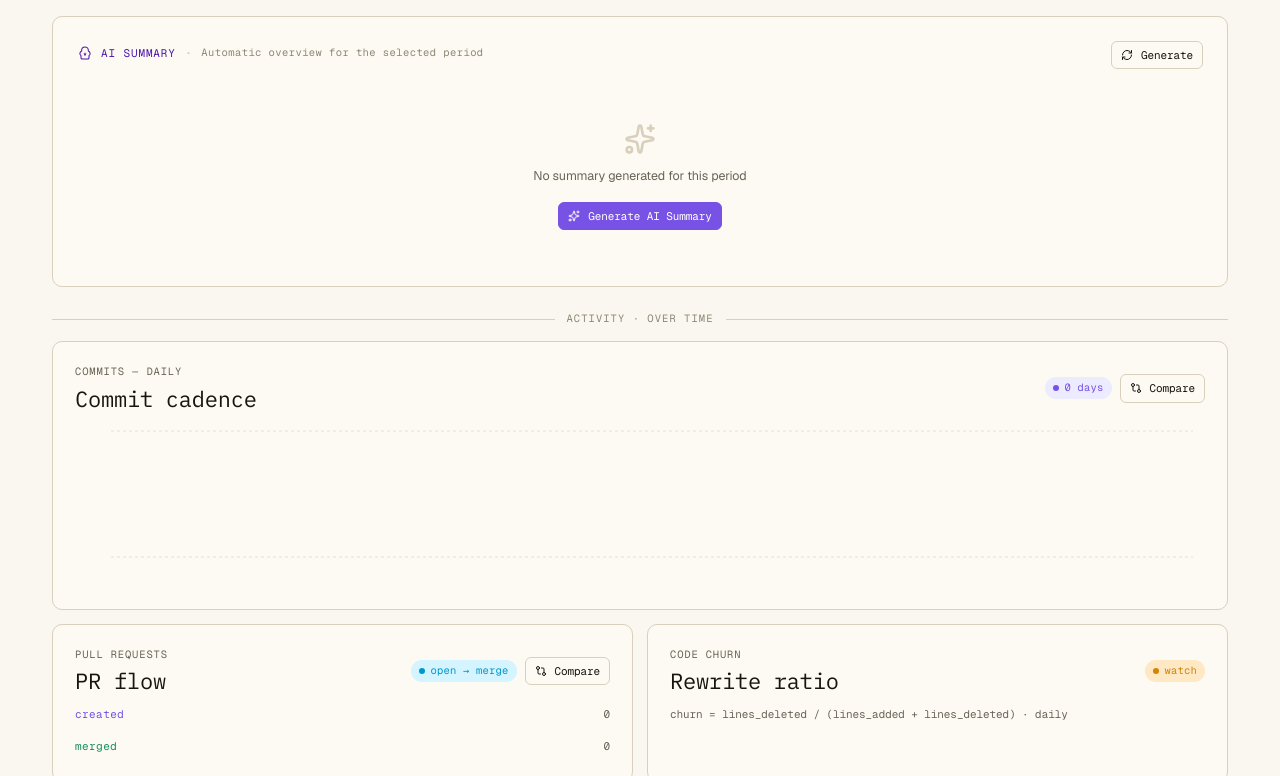
Test case: DashboardPage — period comparison › reveals comparison date inputs and fetches a second commits series when toggled on
(page scrolled)
Expected: the text "Commit cadence" is shown, [75, 384, 257, 413]
What coordinates should you click on to do the following:
click the button "Compare" in the row of "Commit cadence"
I would click on:
 (1162, 388)
Its box is [1120, 374, 1205, 403].
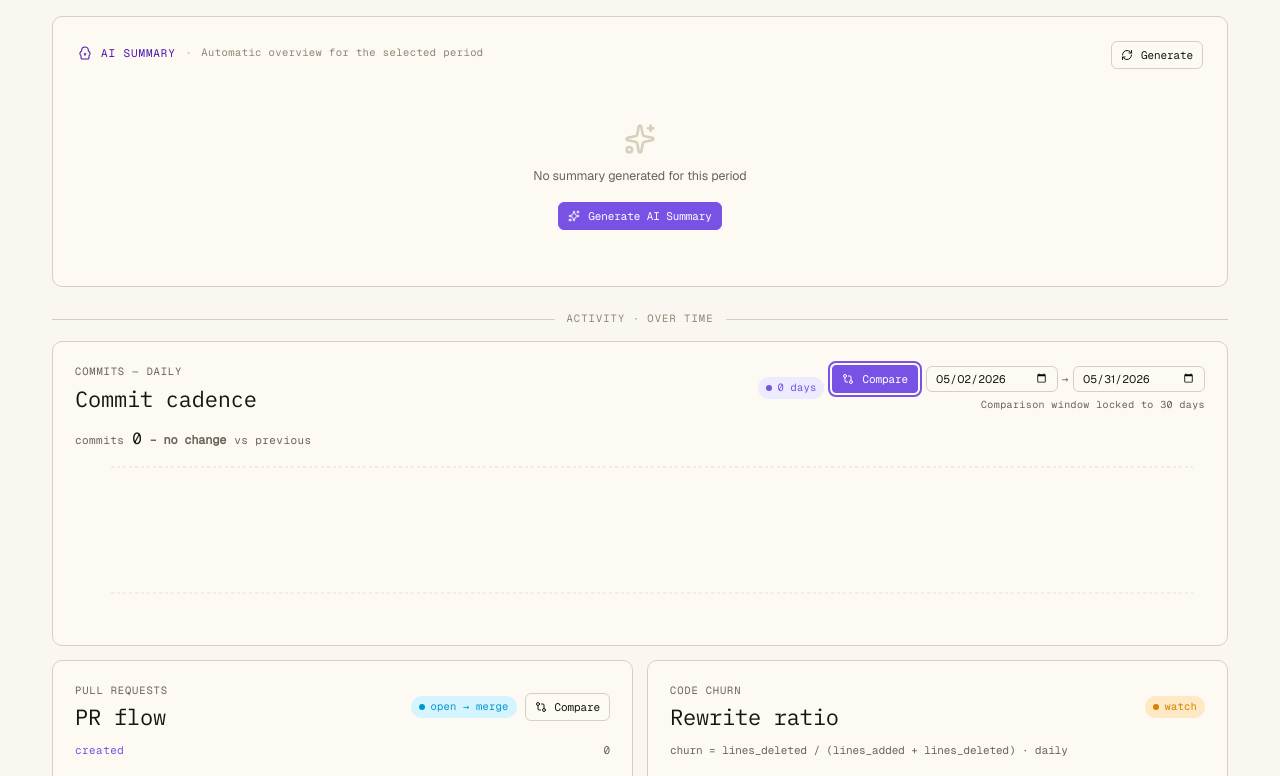
Expected: the date field named "Comparison range start" is shown, [926, 366, 1058, 392]
